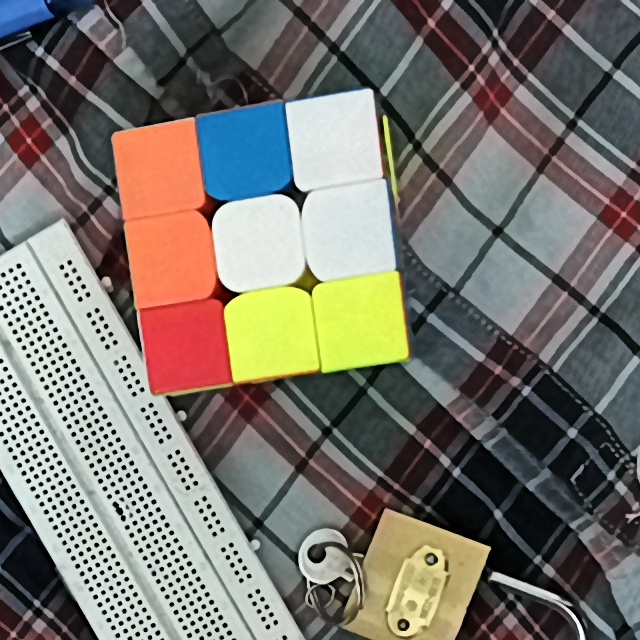tile: (206, 118, 283, 189), (323, 288, 399, 357), (300, 103, 371, 174), (316, 195, 384, 268), (128, 131, 193, 206), (225, 210, 293, 281), (148, 311, 218, 379), (238, 300, 308, 367), (136, 224, 202, 294)
